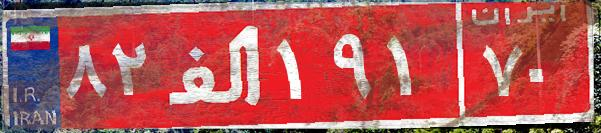0: (525, 38, 570, 115)
1: (385, 28, 445, 110), (273, 28, 330, 110)
2: (110, 28, 158, 105)
7: (475, 38, 525, 113)
8: (57, 26, 110, 107)
9: (330, 28, 385, 110)
الف: (158, 15, 273, 115)
